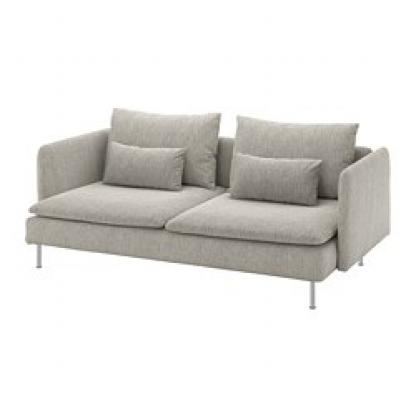Sofa: (18, 96, 396, 323)
